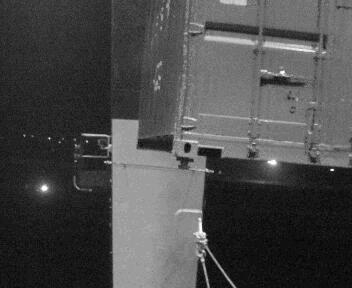twist_lock_1: (170, 154, 198, 174)
